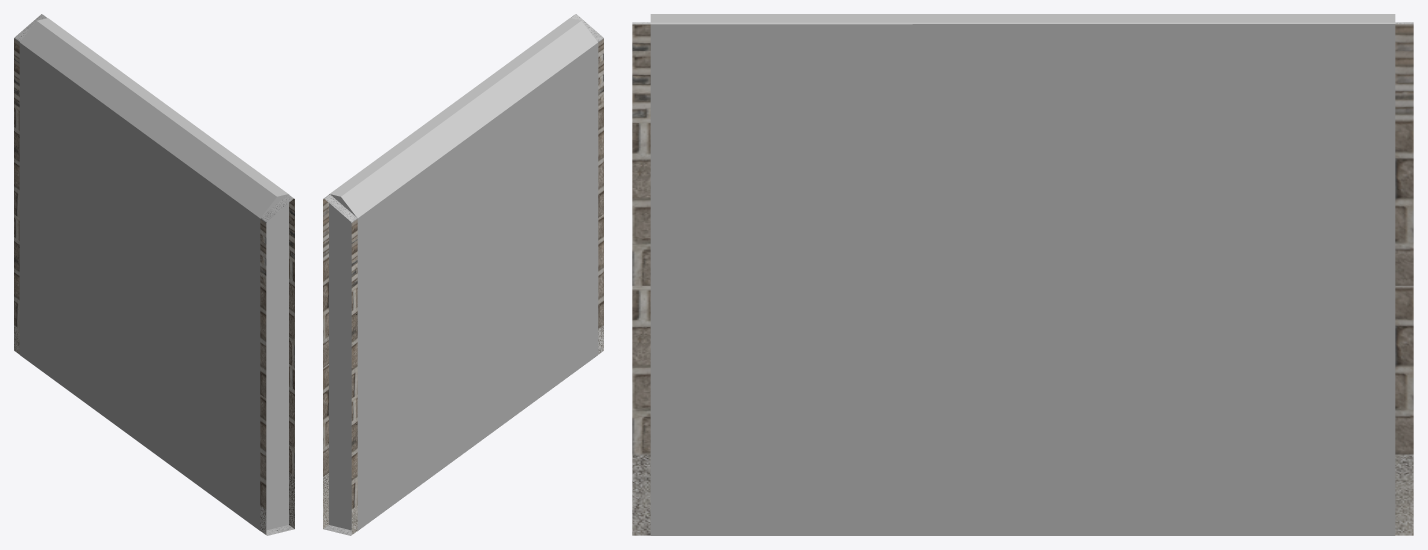
Rendered from SM_HBJ_HG_StoneWallB.fbx.
3 renders of one model, left to right at view 1: azimuth 30°, elevation 25°; view 2: azimuth 150°, elevation 25°; view 3: azimuth 270°, elevation 25°, orthographic. The views are drawn at different scales.
Visible parts, largest first — view 1: SM_HBJ_HG_StoneWallB_ConvexHulls, SM_HBJ_HG_StoneWallB; view 2: SM_HBJ_HG_StoneWallB_ConvexHulls, SM_HBJ_HG_StoneWallB; view 3: SM_HBJ_HG_StoneWallB_ConvexHulls, SM_HBJ_HG_StoneWallB.
Boxes of the visible parts, bbox=[...] form: SM_HBJ_HG_StoneWallB_ConvexHulls: bbox=[19, 18, 288, 531]; SM_HBJ_HG_StoneWallB: bbox=[14, 14, 294, 535]; SM_HBJ_HG_StoneWallB_ConvexHulls: bbox=[329, 18, 598, 531]; SM_HBJ_HG_StoneWallB: bbox=[323, 14, 603, 535]; SM_HBJ_HG_StoneWallB_ConvexHulls: bbox=[650, 14, 1395, 535]; SM_HBJ_HG_StoneWallB: bbox=[632, 22, 1413, 535].
Bounding box in the file's own units: 17 × 257 × 186.
2 materials, 1 textured.
